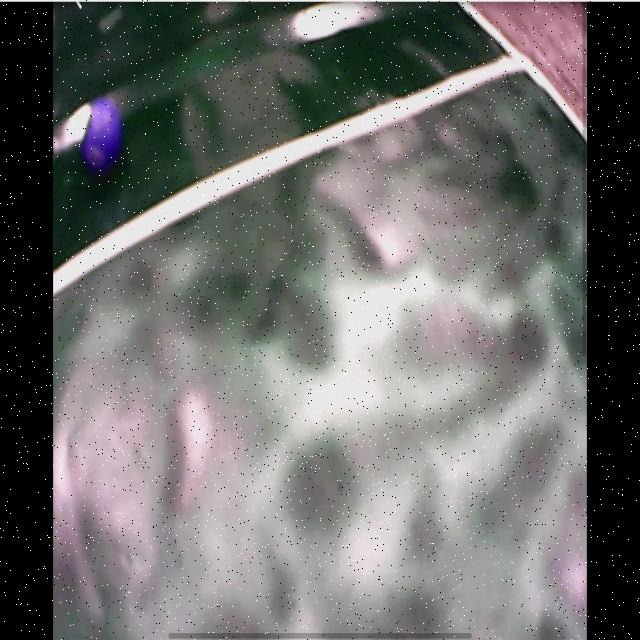ball: (80, 102, 119, 163)
